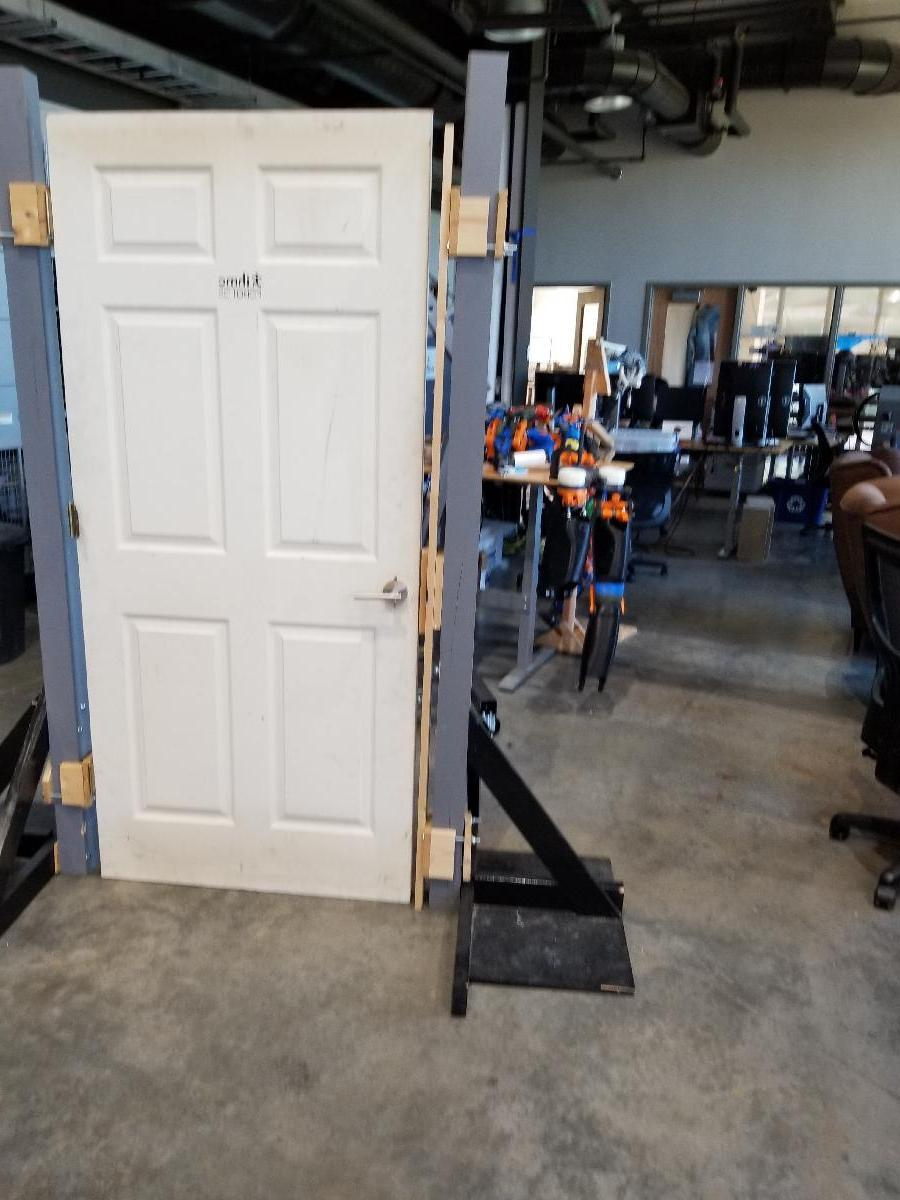door: (91, 108, 434, 891)
handle: (344, 570, 412, 614)
